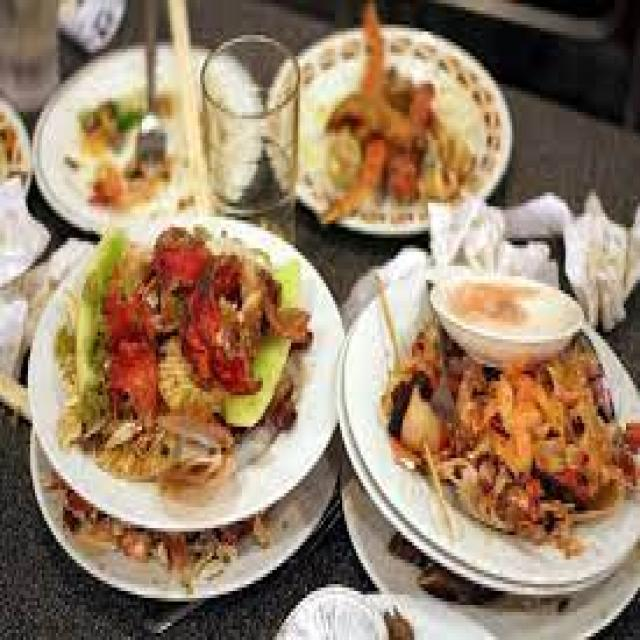Organik: (52, 222, 314, 500), (309, 2, 498, 236), (377, 372, 640, 529)
